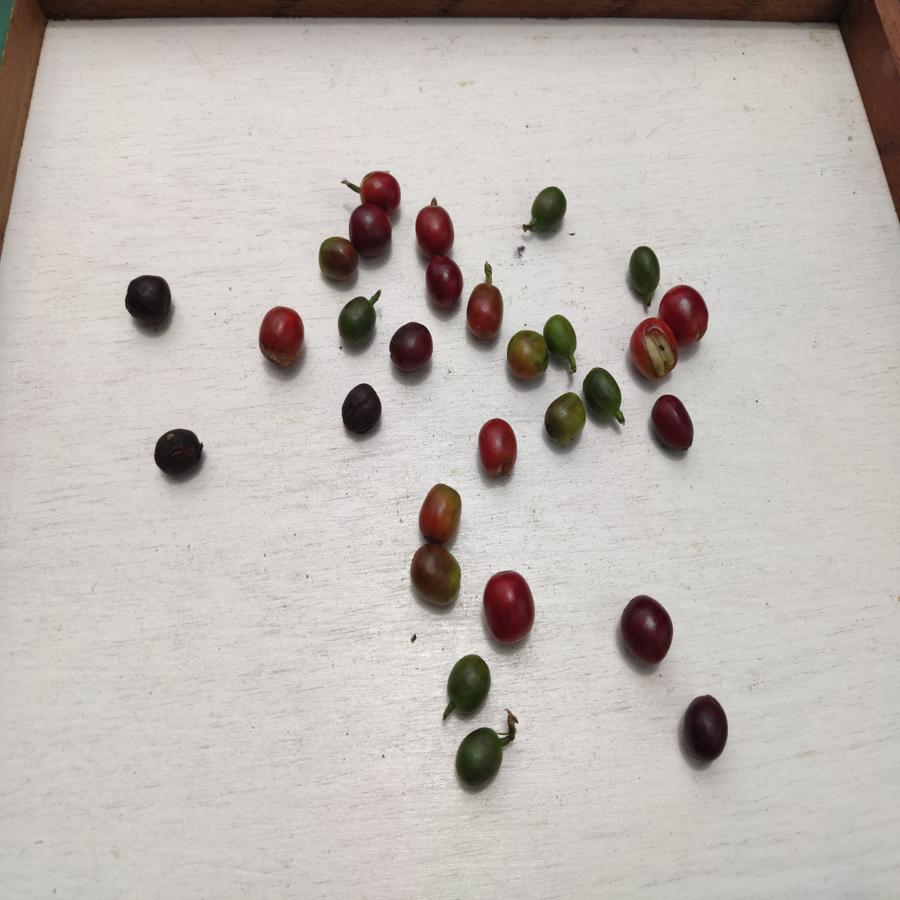Inmaduro: (458, 725, 507, 788), (583, 365, 630, 421), (446, 653, 491, 711), (338, 292, 382, 349), (625, 243, 664, 299), (529, 184, 567, 237), (545, 314, 580, 365)
Maduro: (477, 569, 543, 643), (632, 317, 687, 383), (410, 542, 465, 608), (661, 286, 713, 350), (258, 306, 311, 367), (470, 415, 520, 477), (420, 483, 463, 544), (462, 279, 508, 336), (355, 170, 400, 215), (414, 204, 457, 250), (314, 239, 359, 282)
Pinton: (537, 388, 593, 445), (504, 326, 551, 381)
Sobremaduro: (620, 595, 677, 665), (681, 693, 730, 765), (649, 395, 701, 455), (153, 424, 206, 476), (124, 275, 173, 329), (389, 320, 437, 374), (348, 205, 396, 258), (341, 382, 384, 436), (425, 252, 465, 307)
